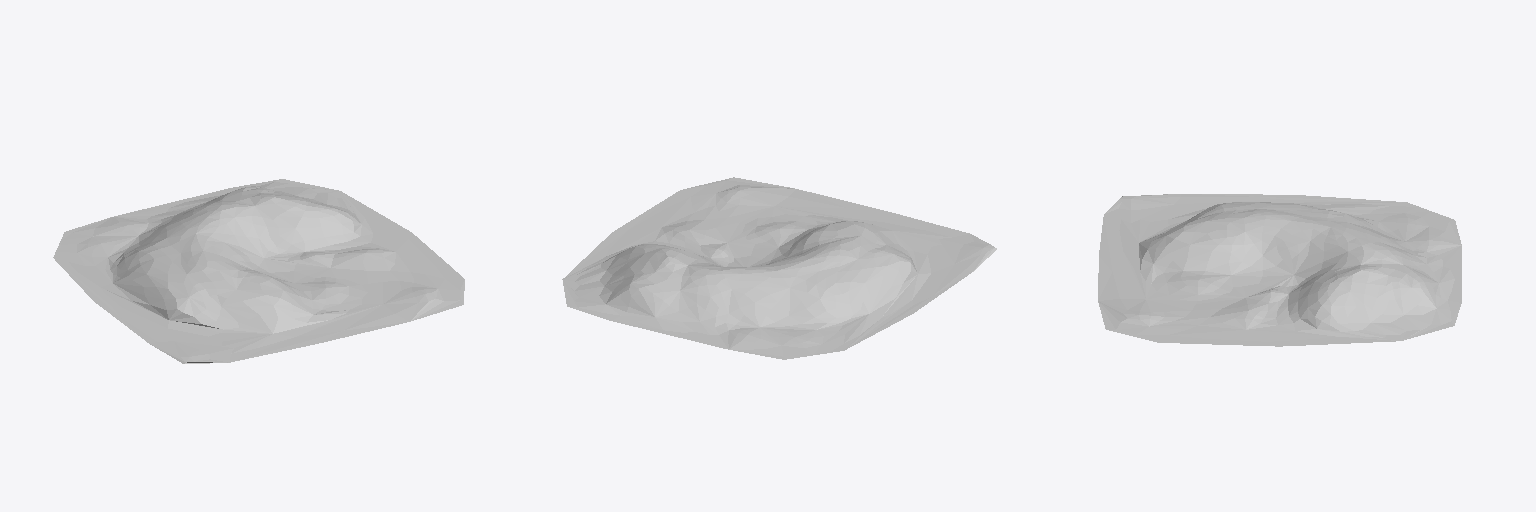
File: Ground05.obj
The picture shows the model from 3 angles: view 1: azimuth 30°, elevation 25°; view 2: azimuth 150°, elevation 25°; view 3: azimuth 270°, elevation 25°; orthographic projection.
Visible parts, largest first — view 1: Plane; view 2: Plane; view 3: Plane.
Part boxes in pixels (x1,y1,x2,y2): Plane: (53,179,464,363); Plane: (562,177,996,359); Plane: (1098,194,1461,346).
Bounding box in the file's own units: 49.5 × 4.44 × 50.